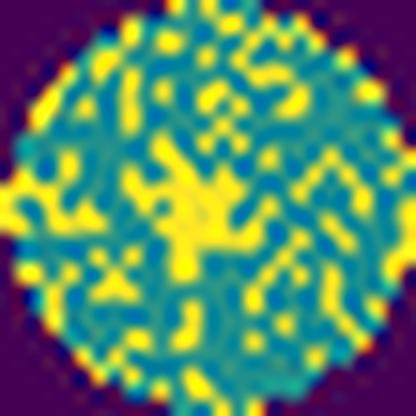Center: (117, 131, 280, 285)
